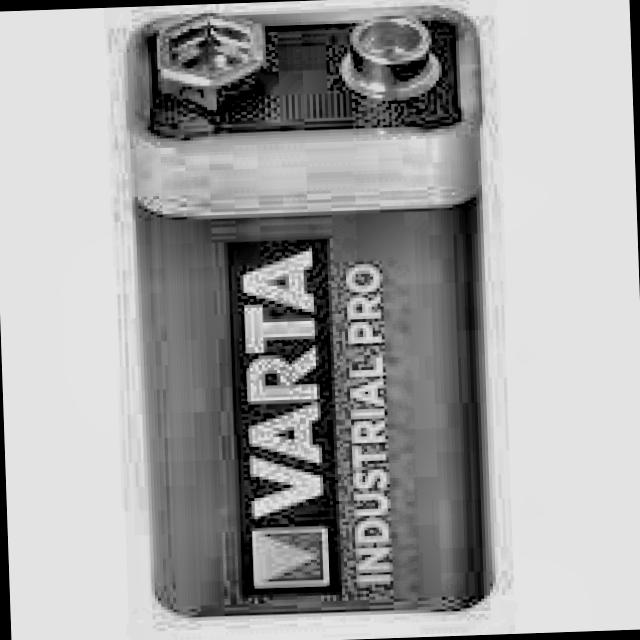Battery: (128, 7, 493, 620)
